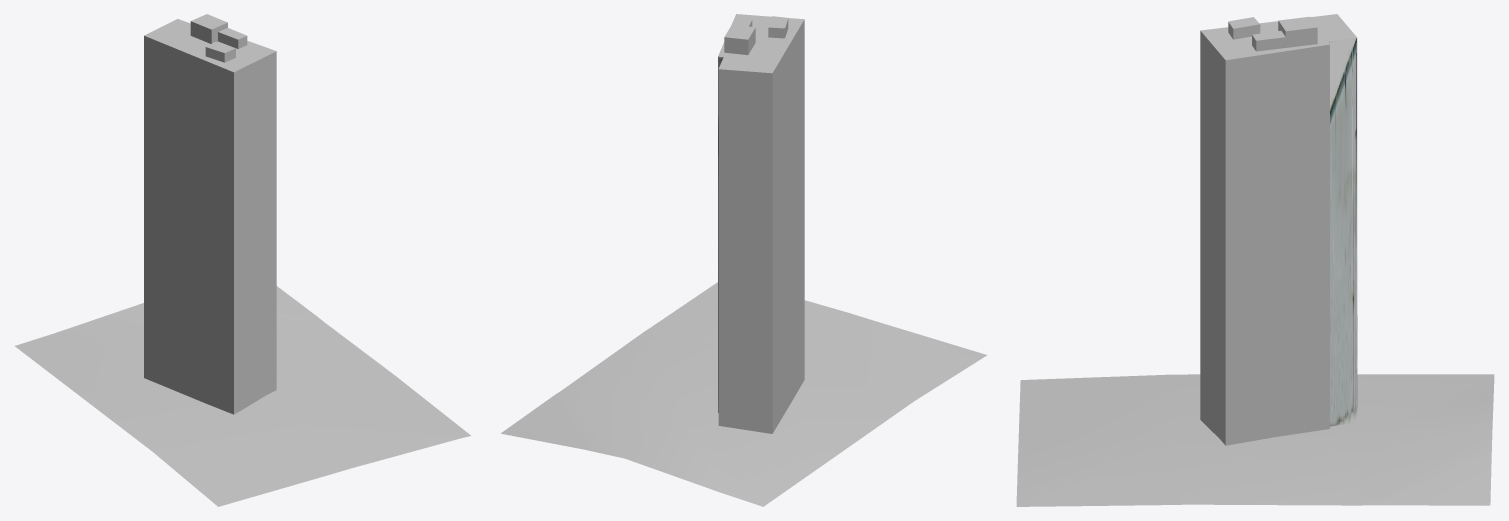
File: Edifício+centro+2.fbx
3 renders of one model, left to right at view 1: azimuth 30°, elevation 25°; view 2: azimuth 150°, elevation 25°; view 3: azimuth 270°, elevation 25°, orthographic. The views are drawn at different scales.
Visible parts, largest first — view 1: Model, Google_Earth_Terrain; view 2: Google_Earth_Terrain, Model; view 3: Model, Google_Earth_Terrain.
Boxes of the visible parts, left/top/right/bottom form: Model: left=144, top=14, right=276, bottom=414; Google_Earth_Terrain: left=15, top=286, right=470, bottom=506; Google_Earth_Terrain: left=501, top=282, right=987, bottom=506; Model: left=718, top=14, right=804, bottom=433; Model: left=1200, top=14, right=1357, bottom=445; Google_Earth_Terrain: left=1016, top=374, right=1494, bottom=506.
Bounding box in the file's own units: 68.05 × 93.61 × 96.84.
